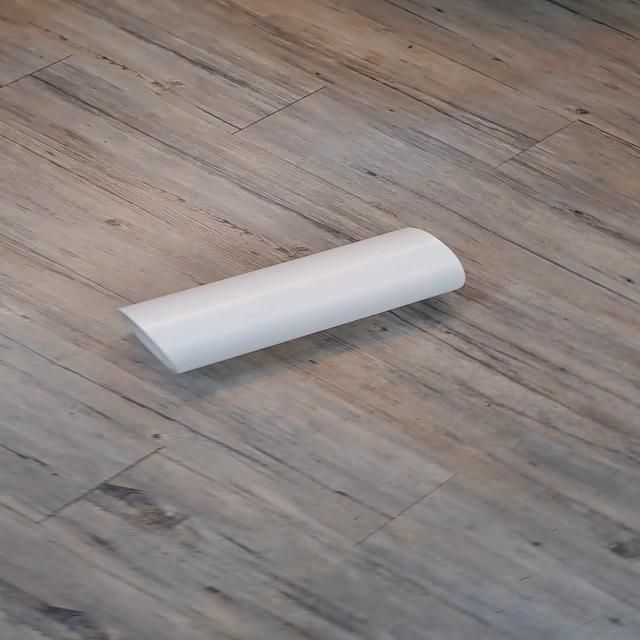CORAL: (104, 222, 480, 386)
